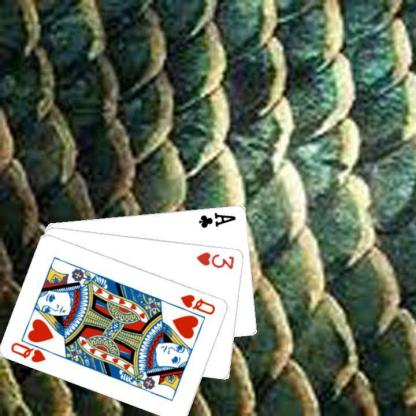3H: (194, 249, 236, 270)
AC: (196, 210, 237, 229)
QH: (8, 336, 55, 364), (178, 292, 217, 316)
